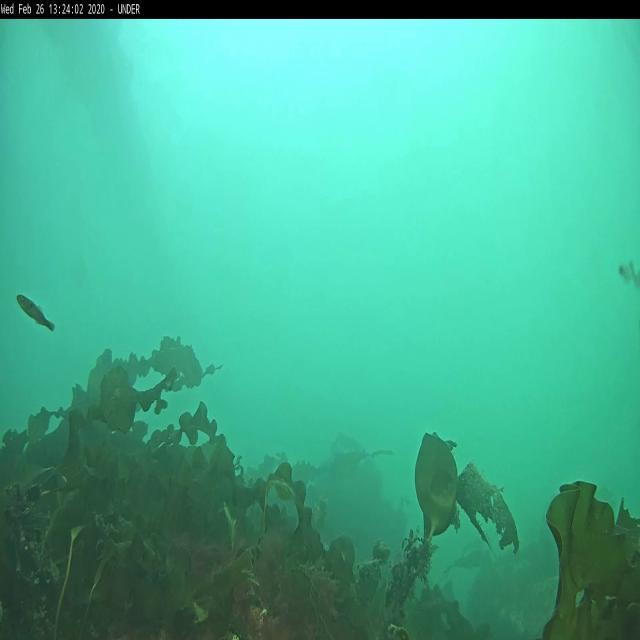fish: (17, 292, 57, 333)
